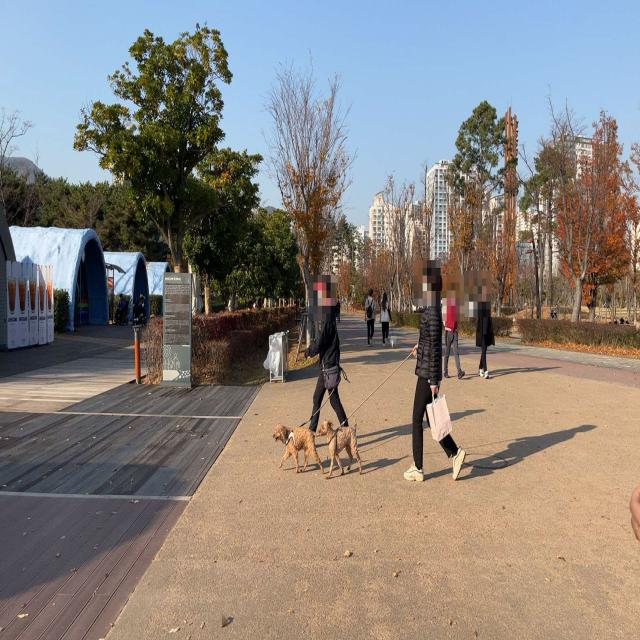Leashed_Dog: (318, 340, 432, 481), (272, 388, 325, 476)
